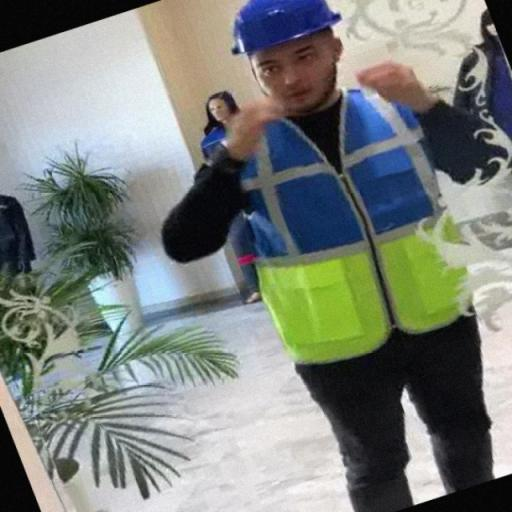Person: (170, 4, 493, 509)
helmet: (221, 0, 343, 53)
vest: (220, 80, 469, 363)
